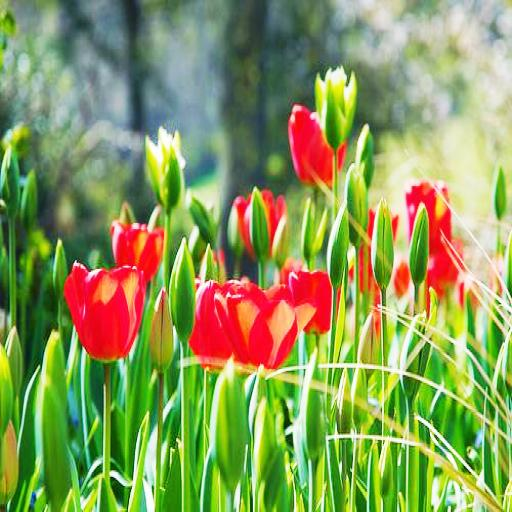tulip: (215, 275, 314, 368), (64, 260, 142, 360), (289, 102, 343, 182), (404, 174, 452, 248), (112, 220, 167, 277)
